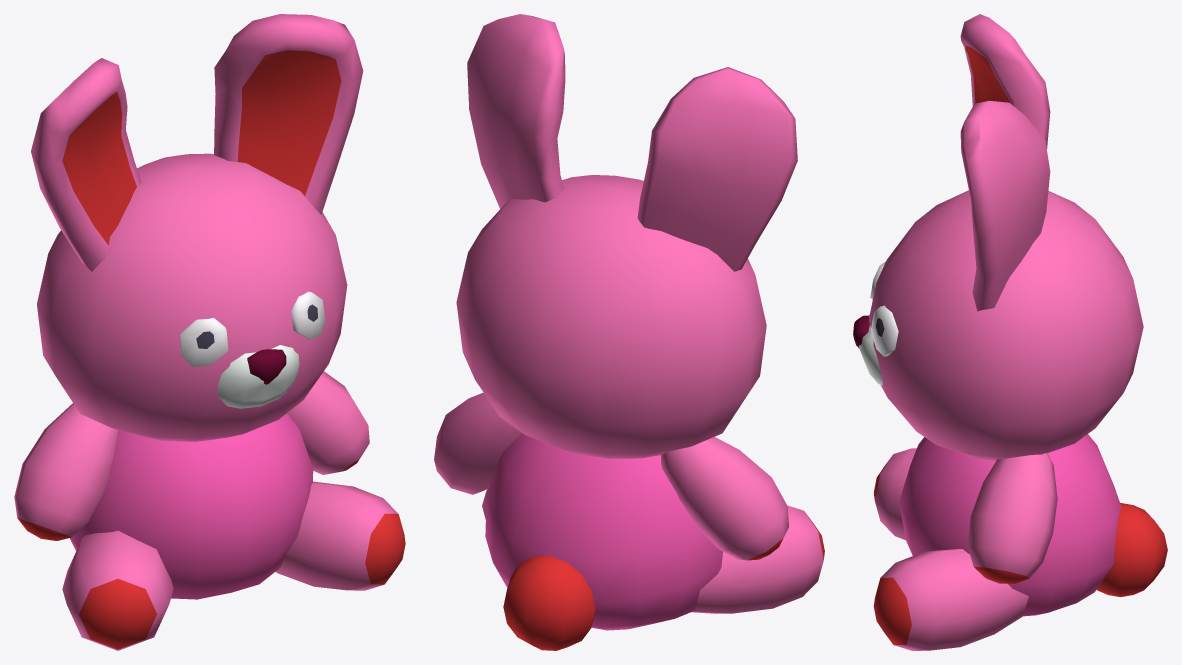
File: Bunny.fbx
The picture shows the model from 3 angles, left to right: view 1: azimuth 30°, elevation 25°; view 2: azimuth 150°, elevation 25°; view 3: azimuth 270°, elevation 25°; orthographic projection. The views are drawn at different scales.
Parts seen in each view (by area): view 1: Bunny_01:Bunny_01_0; view 2: Bunny_01:Bunny_01_0; view 3: Bunny_01:Bunny_01_0.
Boxes of the visible parts, left/top/right/bottom form: Bunny_01:Bunny_01_0: left=14, top=14, right=405, bottom=650; Bunny_01:Bunny_01_0: left=434, top=14, right=824, bottom=650; Bunny_01:Bunny_01_0: left=853, top=14, right=1167, bottom=650.
Size of the model in its own units: 0.8479 by 1.32 by 0.7053.
